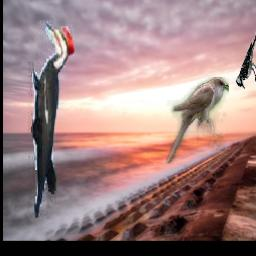Cuckoo: (167, 77, 230, 164)
Woodpecker: (28, 20, 74, 219), (235, 30, 256, 90)
